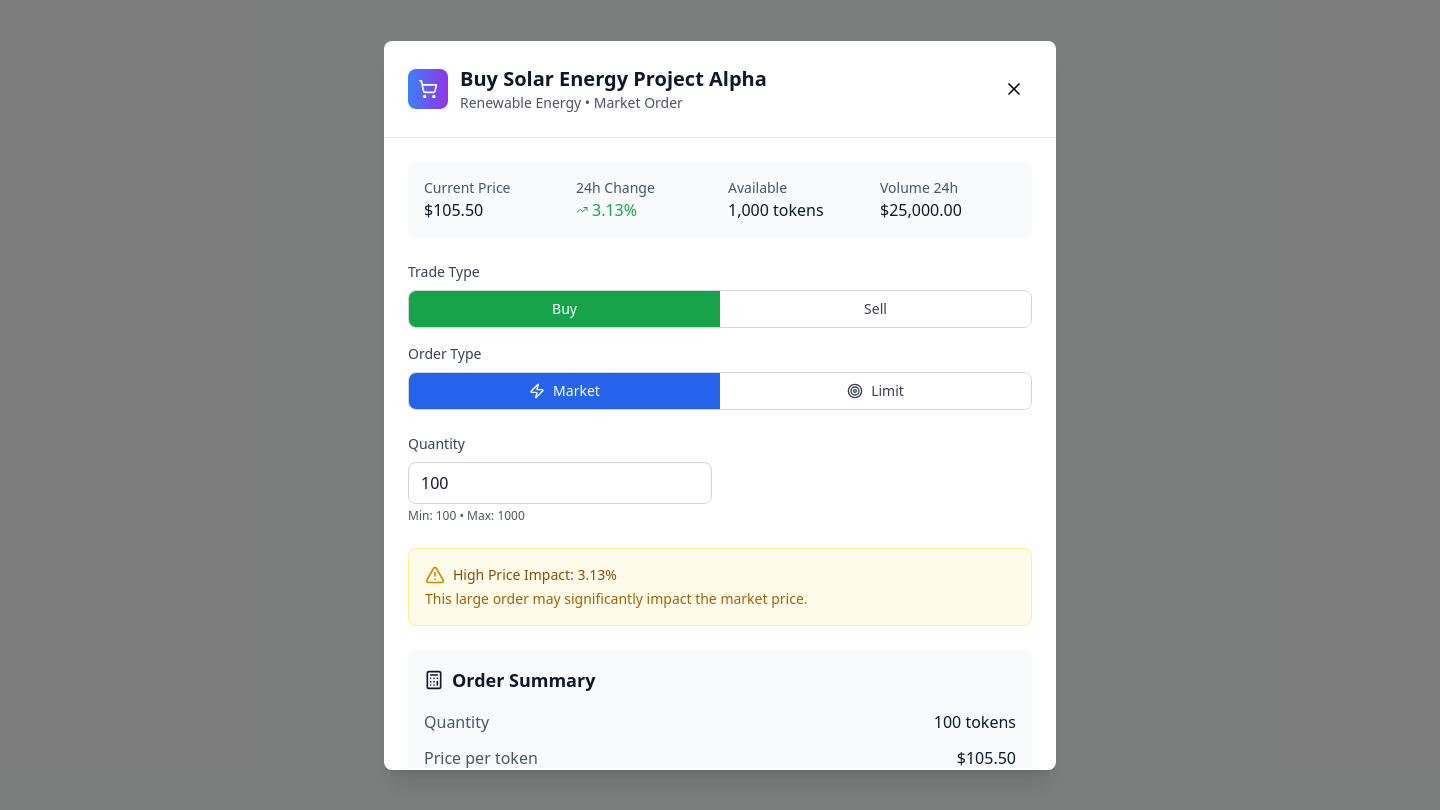
TradeModal › validates insufficient tokens for sell orders
Click the button "Sell".
click(876, 308)  # box top-left (720, 290), bottom-right (1031, 326)
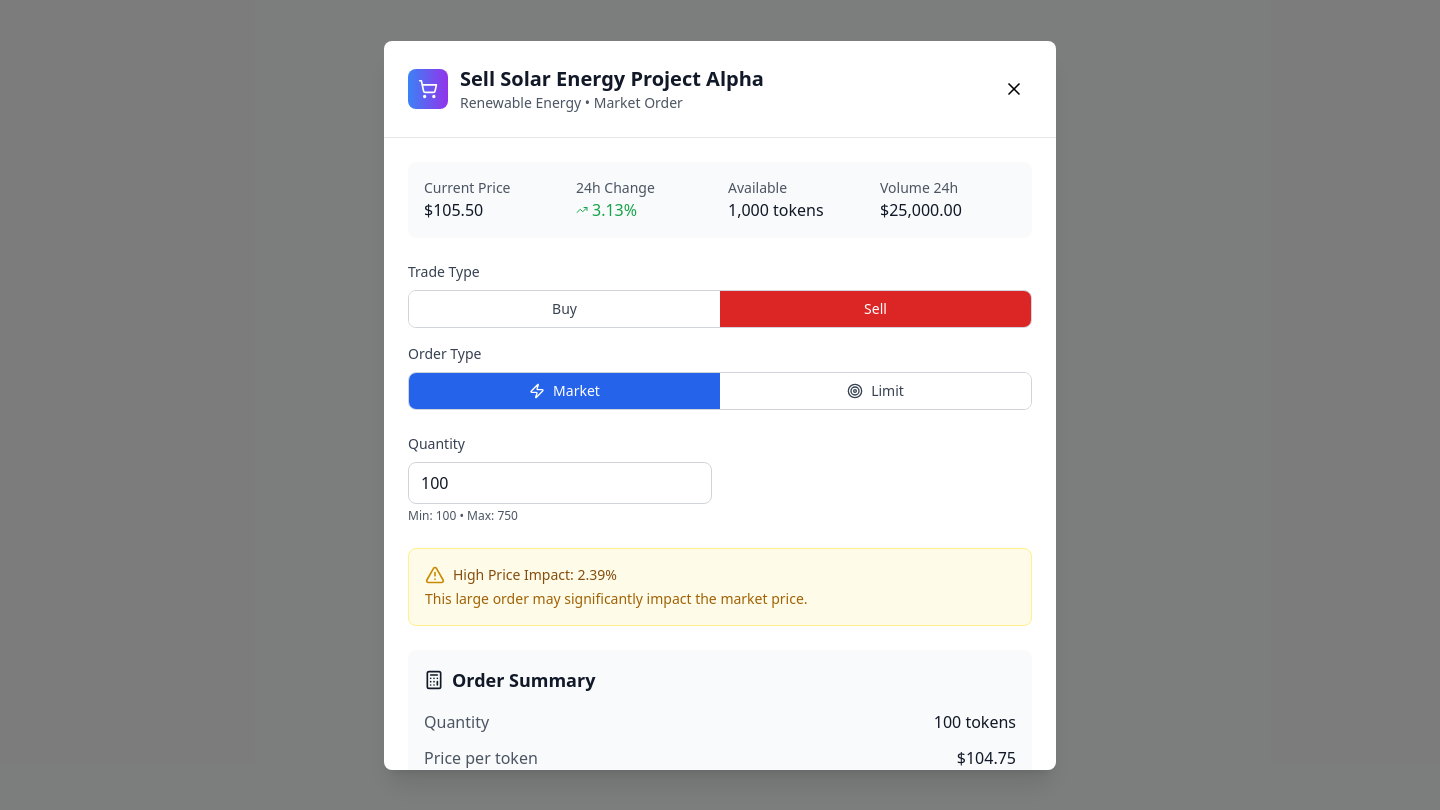
Replace the text in the number field showing "100" with "800" at [560, 482], box top-left (408, 462), bottom-right (712, 504)
(page scrolled)
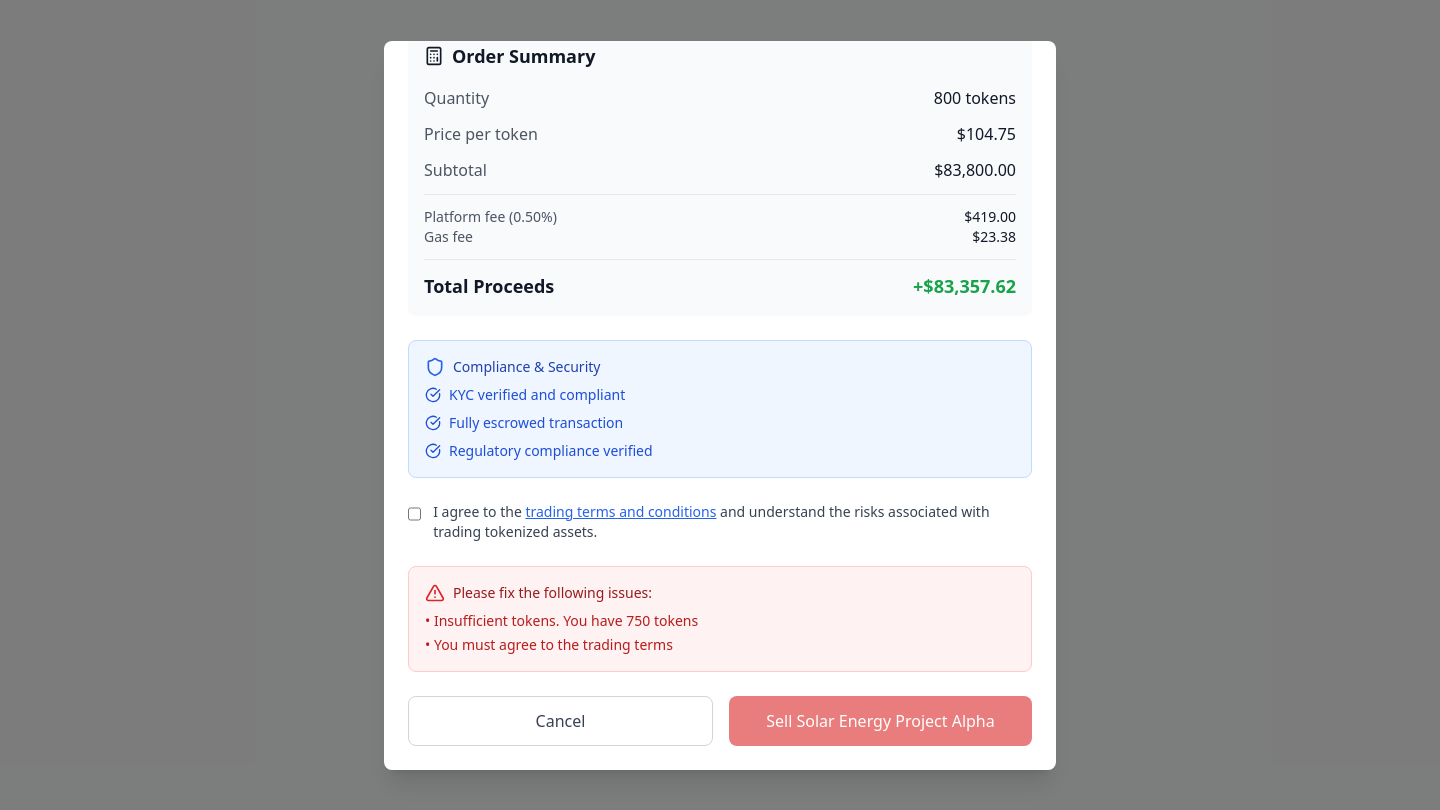
Now the list item "• Insufficient tokens. You have 750 tokens" is shown, box top-left (425, 610), bottom-right (698, 630)
